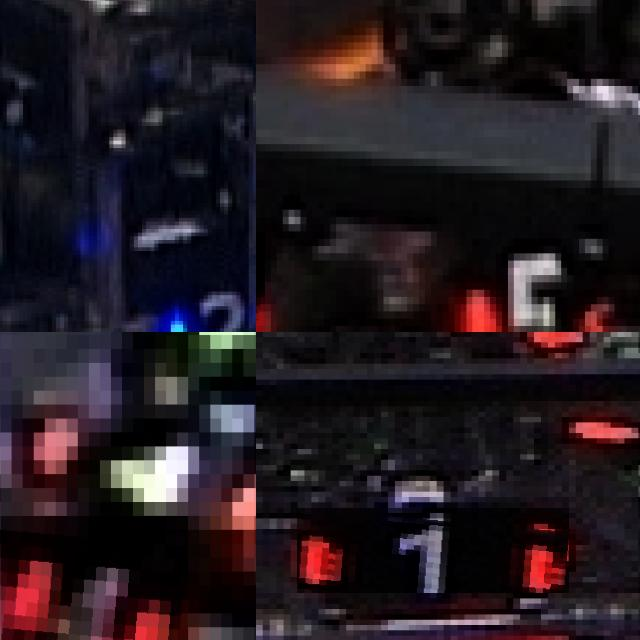R1: (297, 508, 569, 593)
R4: (33, 377, 256, 530), (0, 516, 188, 640)
R5: (454, 246, 614, 332)
